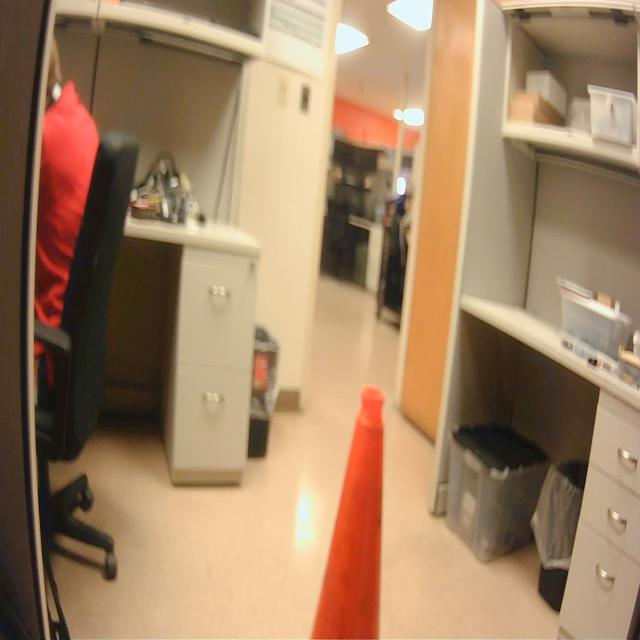traffic cone: (305, 378, 392, 640)
